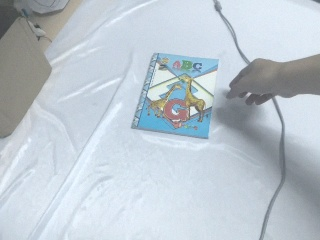book: (131, 53, 220, 139)
box: (1, 1, 54, 139)
